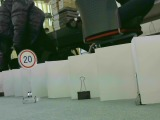speed_20: (17, 49, 37, 68)
